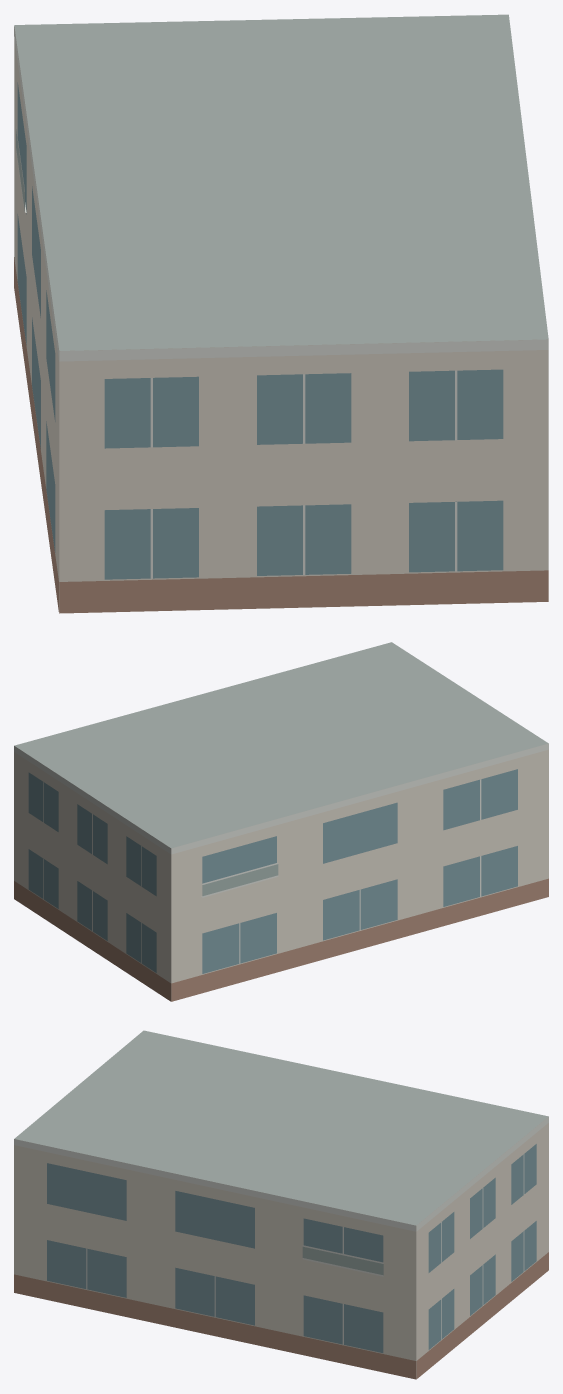
The model's file is survey-upis-32893346.glb.
3 views of the same model, one above another, from view 1: azimuth 30°, elevation 25°; view 2: azimuth 150°, elevation 25°; view 3: azimuth 270°, elevation 25° (orthographic). The views are drawn at different scales.
Visible parts, largest first — view 1: survey-upis-32893346.tmp; view 2: survey-upis-32893346.tmp; view 3: survey-upis-32893346.tmp.
Part boxes in pixels (left/top/right/bottom): survey-upis-32893346.tmp: left=14, top=14, right=548, bottom=613; survey-upis-32893346.tmp: left=14, top=642, right=548, bottom=1001; survey-upis-32893346.tmp: left=14, top=1030, right=548, bottom=1379.
Size of the model in its own units: 16.61 by 6.1 by 19.22.
